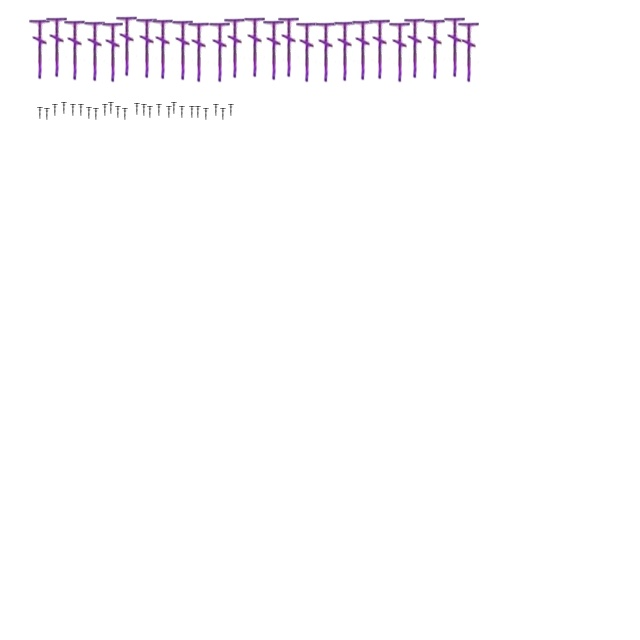double treble: (46, 14, 68, 78), (64, 17, 86, 81), (84, 18, 106, 82), (102, 19, 124, 83), (116, 13, 138, 77), (136, 15, 158, 79), (152, 16, 174, 80), (172, 17, 194, 81), (188, 19, 210, 83), (224, 15, 246, 79), (244, 14, 266, 78), (278, 14, 300, 78), (296, 19, 318, 83), (334, 18, 356, 82), (352, 17, 374, 81), (404, 15, 426, 79), (424, 16, 446, 80), (444, 14, 466, 78), (458, 19, 480, 83), (30, 16, 50, 80), (210, 19, 230, 83), (264, 17, 284, 81), (316, 19, 336, 83), (370, 16, 390, 80), (390, 19, 410, 83), (37, 107, 43, 119), (44, 108, 50, 120), (52, 104, 58, 116), (61, 102, 67, 114), (70, 104, 76, 116), (78, 104, 84, 116), (86, 107, 92, 119), (93, 108, 99, 120), (102, 104, 108, 116), (108, 102, 114, 114), (115, 106, 121, 118), (122, 108, 128, 120), (134, 103, 140, 115), (141, 104, 147, 116), (147, 106, 153, 118), (156, 104, 162, 116), (166, 106, 172, 118), (171, 102, 177, 114), (179, 106, 185, 118), (189, 106, 195, 118), (195, 106, 201, 118), (203, 108, 209, 120), (213, 104, 219, 116), (220, 108, 226, 120), (228, 104, 234, 116)
